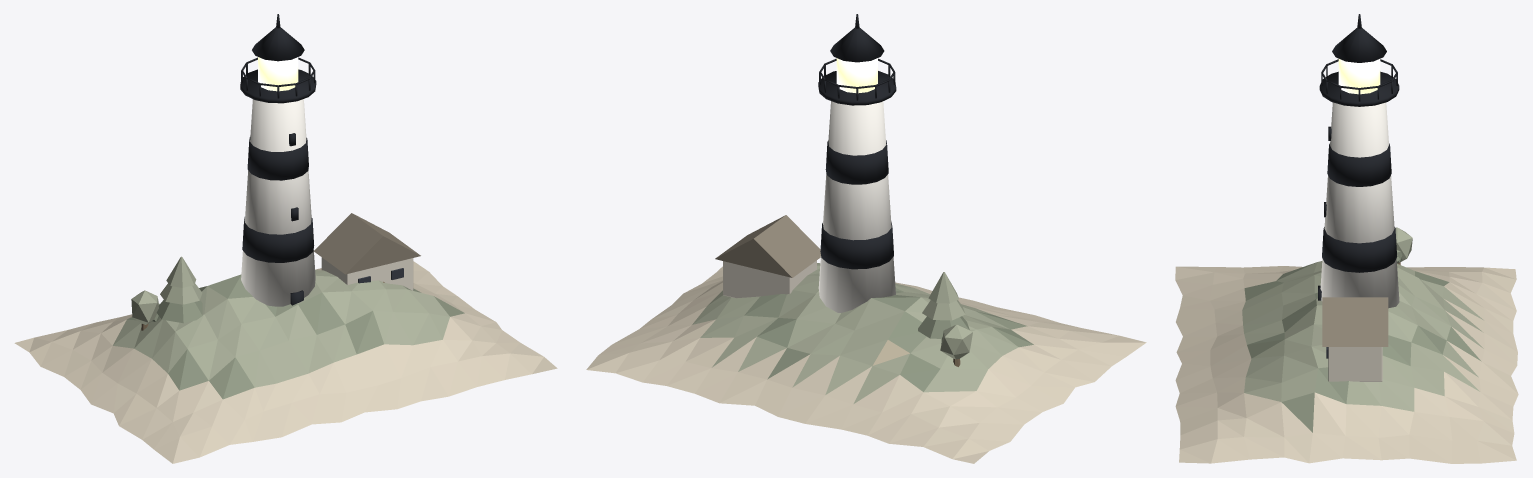
File: lighthouse.glb
3 renders of one model, left to right at view 1: azimuth 30°, elevation 25°; view 2: azimuth 150°, elevation 25°; view 3: azimuth 270°, elevation 25°, orthographic. The views are drawn at different scales.
Parts seen in each view (by area): view 1: LighthouseIslet, Tower, Cottage, Lantern; view 2: LighthouseIslet, Tower, Cottage, Lantern; view 3: LighthouseIslet, Tower, Cottage, Lantern.
Part boxes in pixels (bbox=[...]): LighthouseIslet: bbox=[14, 261, 557, 463]; Tower: bbox=[240, 14, 316, 306]; Cottage: bbox=[131, 213, 420, 330]; Lantern: bbox=[258, 57, 298, 91]; LighthouseIslet: bbox=[586, 263, 1146, 463]; Tower: bbox=[818, 14, 896, 312]; Cottage: bbox=[715, 215, 972, 366]; Lantern: bbox=[836, 58, 877, 93]; LighthouseIslet: bbox=[1175, 261, 1518, 463]; Tower: bbox=[1318, 14, 1399, 308]; Cottage: bbox=[1322, 227, 1412, 381]; Lantern: bbox=[1338, 59, 1380, 94].
Bounding box in the file's own units: 11.21 × 9.25 × 8.21.
